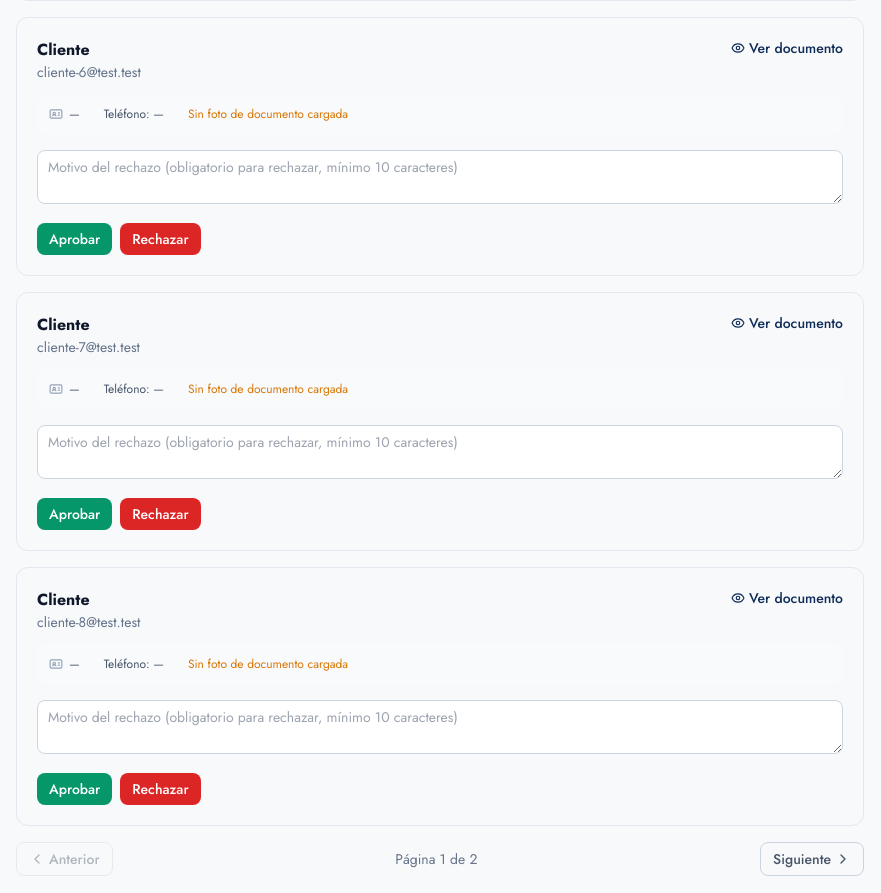
Test case: AgentKycPanel › pagina cuando hay más de 8 verificaciones
(page scrolled)
Expected: the text "cliente-9@test.test" is not shown
Click the button "Siguiente".
click(812, 859)  # box x1=760 y1=842 x2=864 y2=876
(page scrolled)
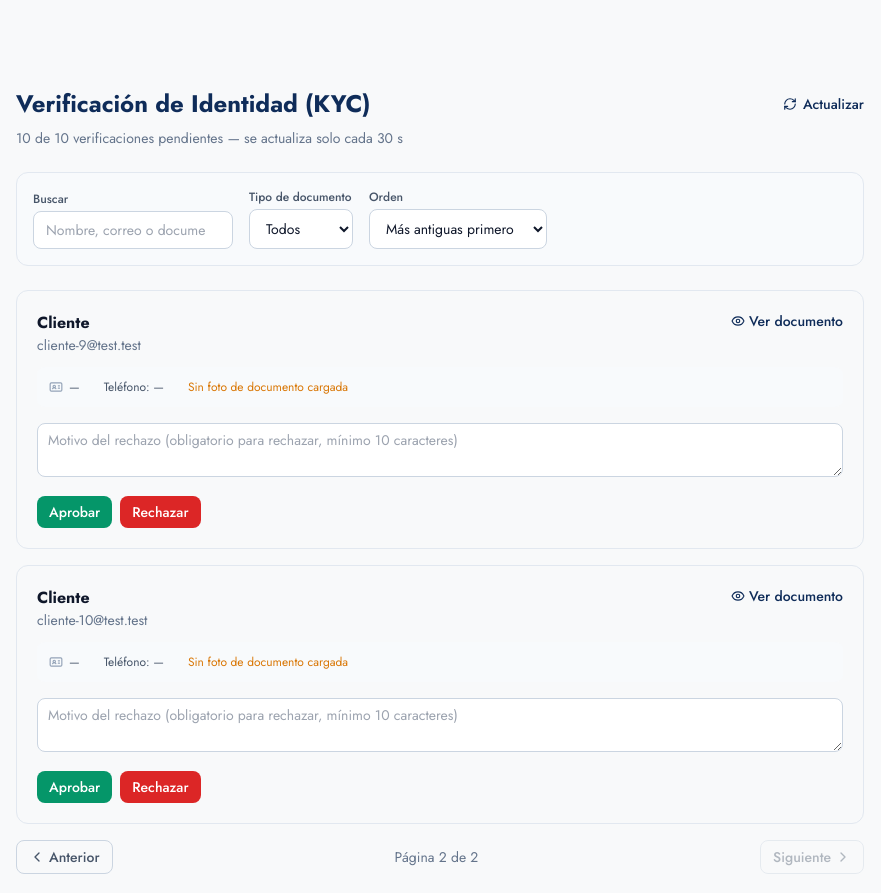
Now the text "cliente-9@test.test" is shown, box x1=37 y1=335 x2=141 y2=355
Now the text "cliente-10@test.test" is shown, box x1=37 y1=610 x2=148 y2=630
